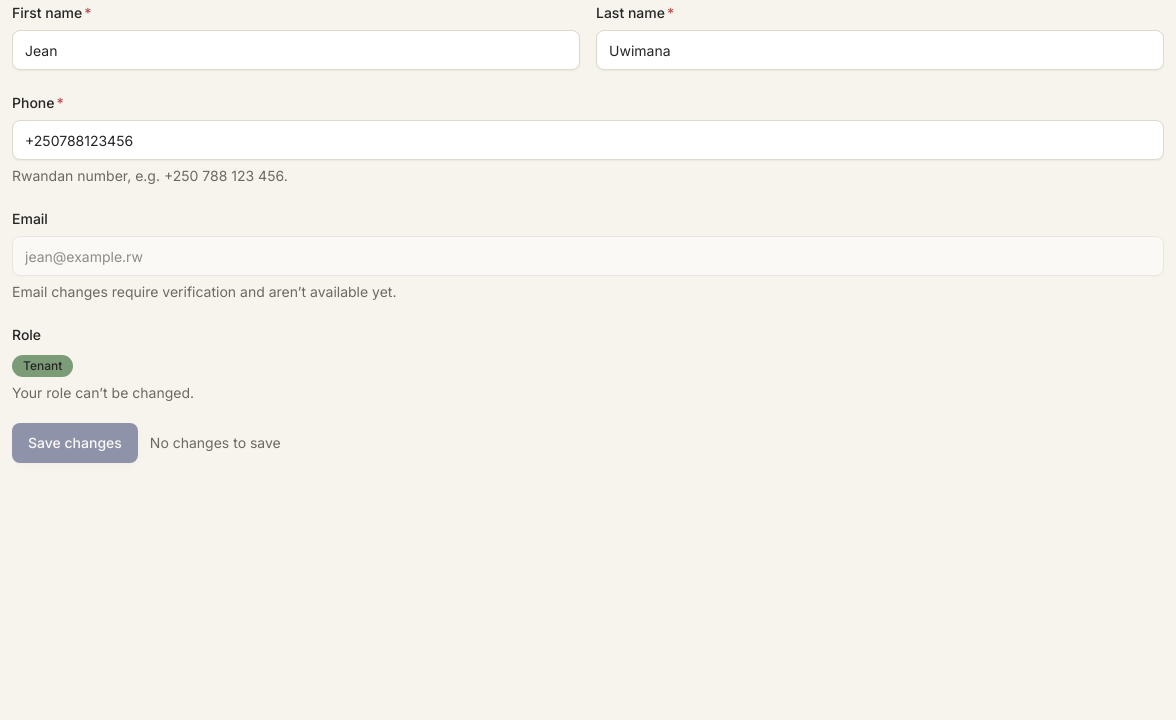
profile form › sends ONLY the changed field on save
The width and height of the screenshot is (1176, 720).
Replace the text in the field labelled "First name*" with "Jeanette" at {"x": 296, "y": 50}, box [12,30,580,70]
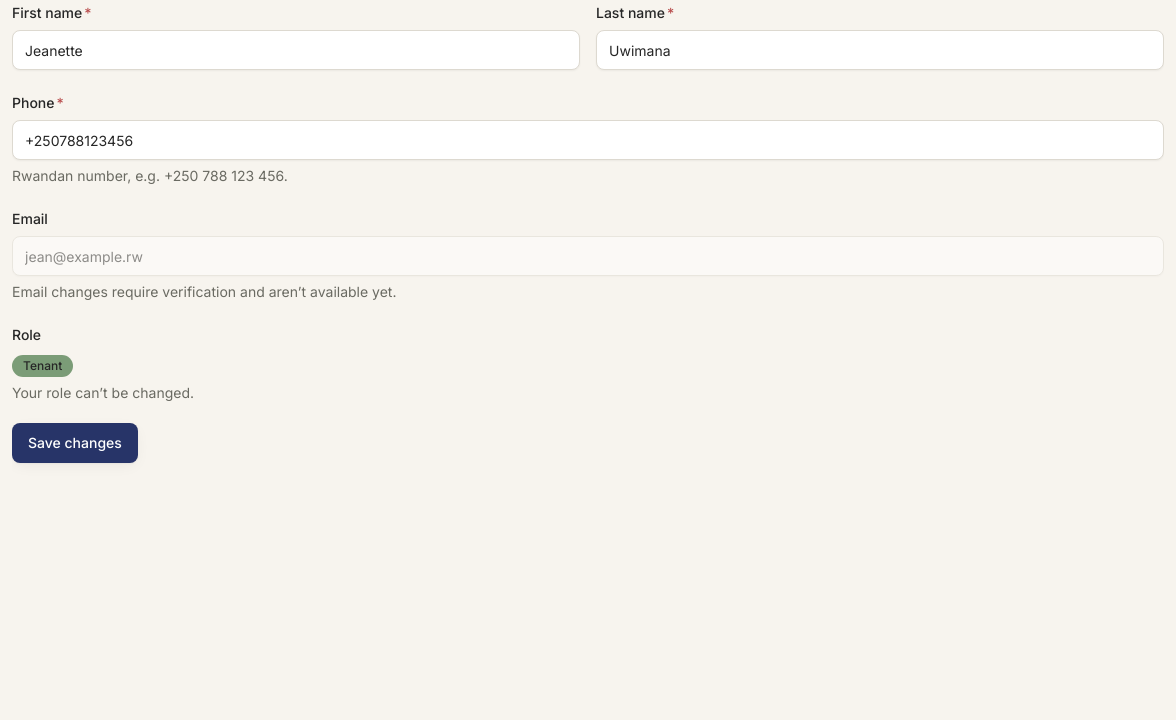
Click the button "Save changes".
click(75, 443)  # box [12,423,138,463]
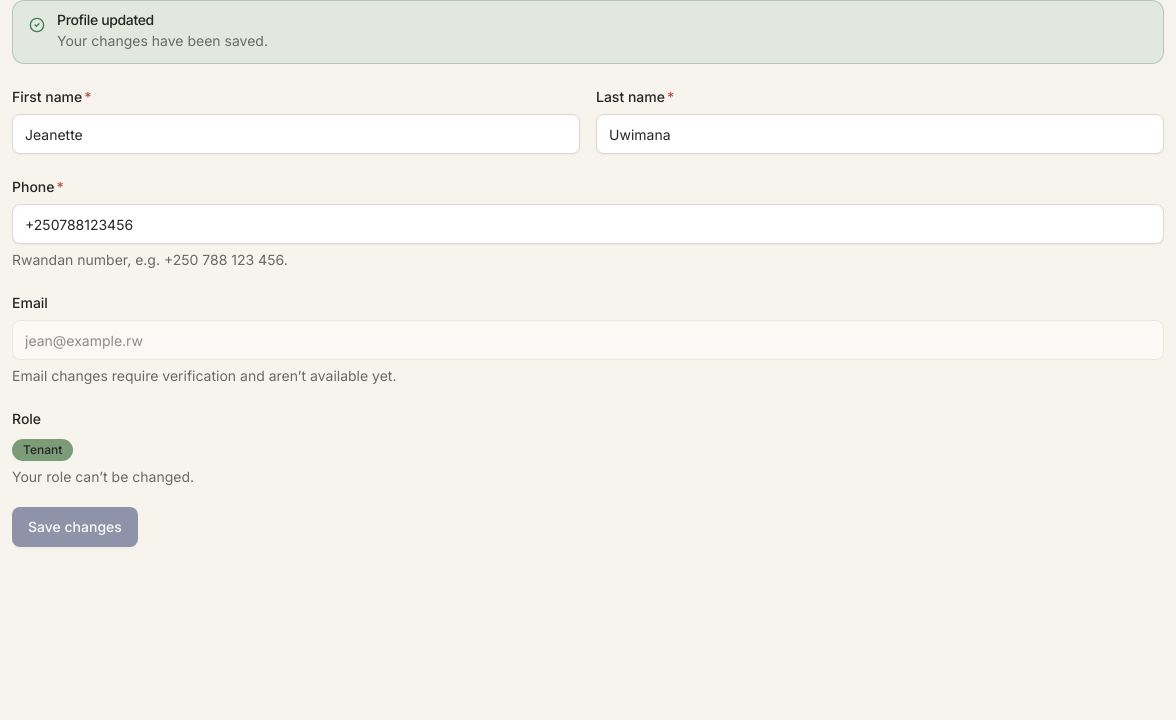
Expected: the heading "Profile updated" is shown, [57,11,154,28]
